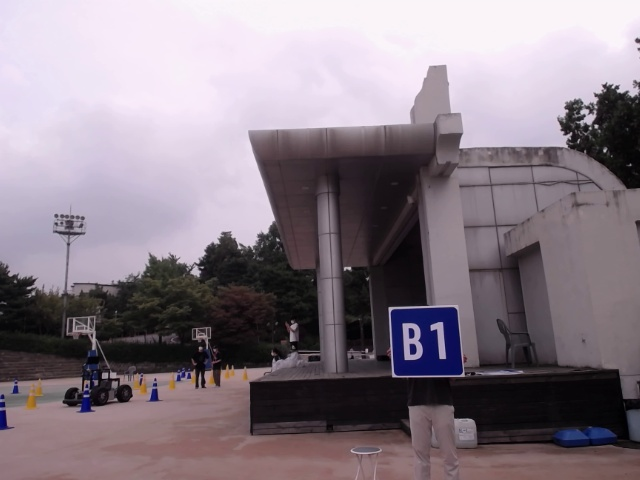delivery_b1: (390, 306, 464, 377)
